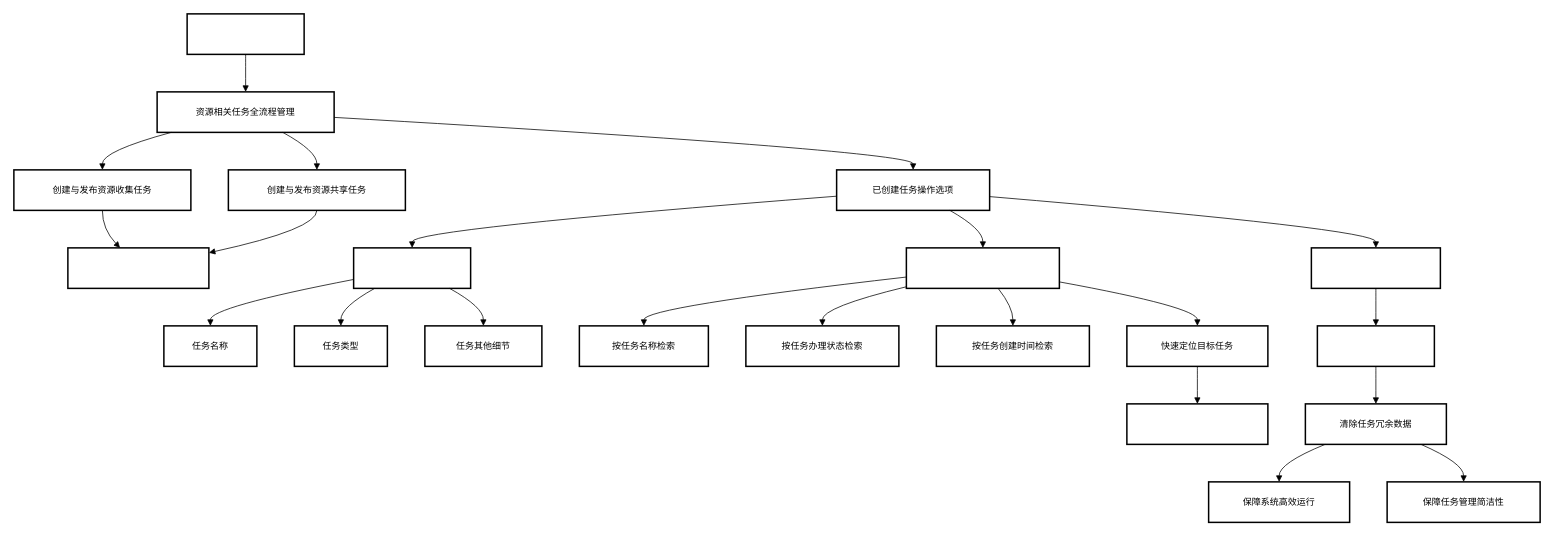
The diagram is 1553 pixels wide and 536 high, and some of its shapes have lost their labels. The box of each missing label's shape, as (x1, y1, x2, y2) in pixels:
一键删除操作: (1316, 325, 1435, 367)
任务完成或删除: (1310, 247, 1441, 289)
任务操控体系: (186, 13, 304, 55)
修改任务信息: (352, 247, 471, 289)
强大的查询查看功能: (905, 247, 1060, 289)
查看任务详细信息: (1126, 403, 1268, 445)
用户定制任务内容: (67, 247, 209, 289)
